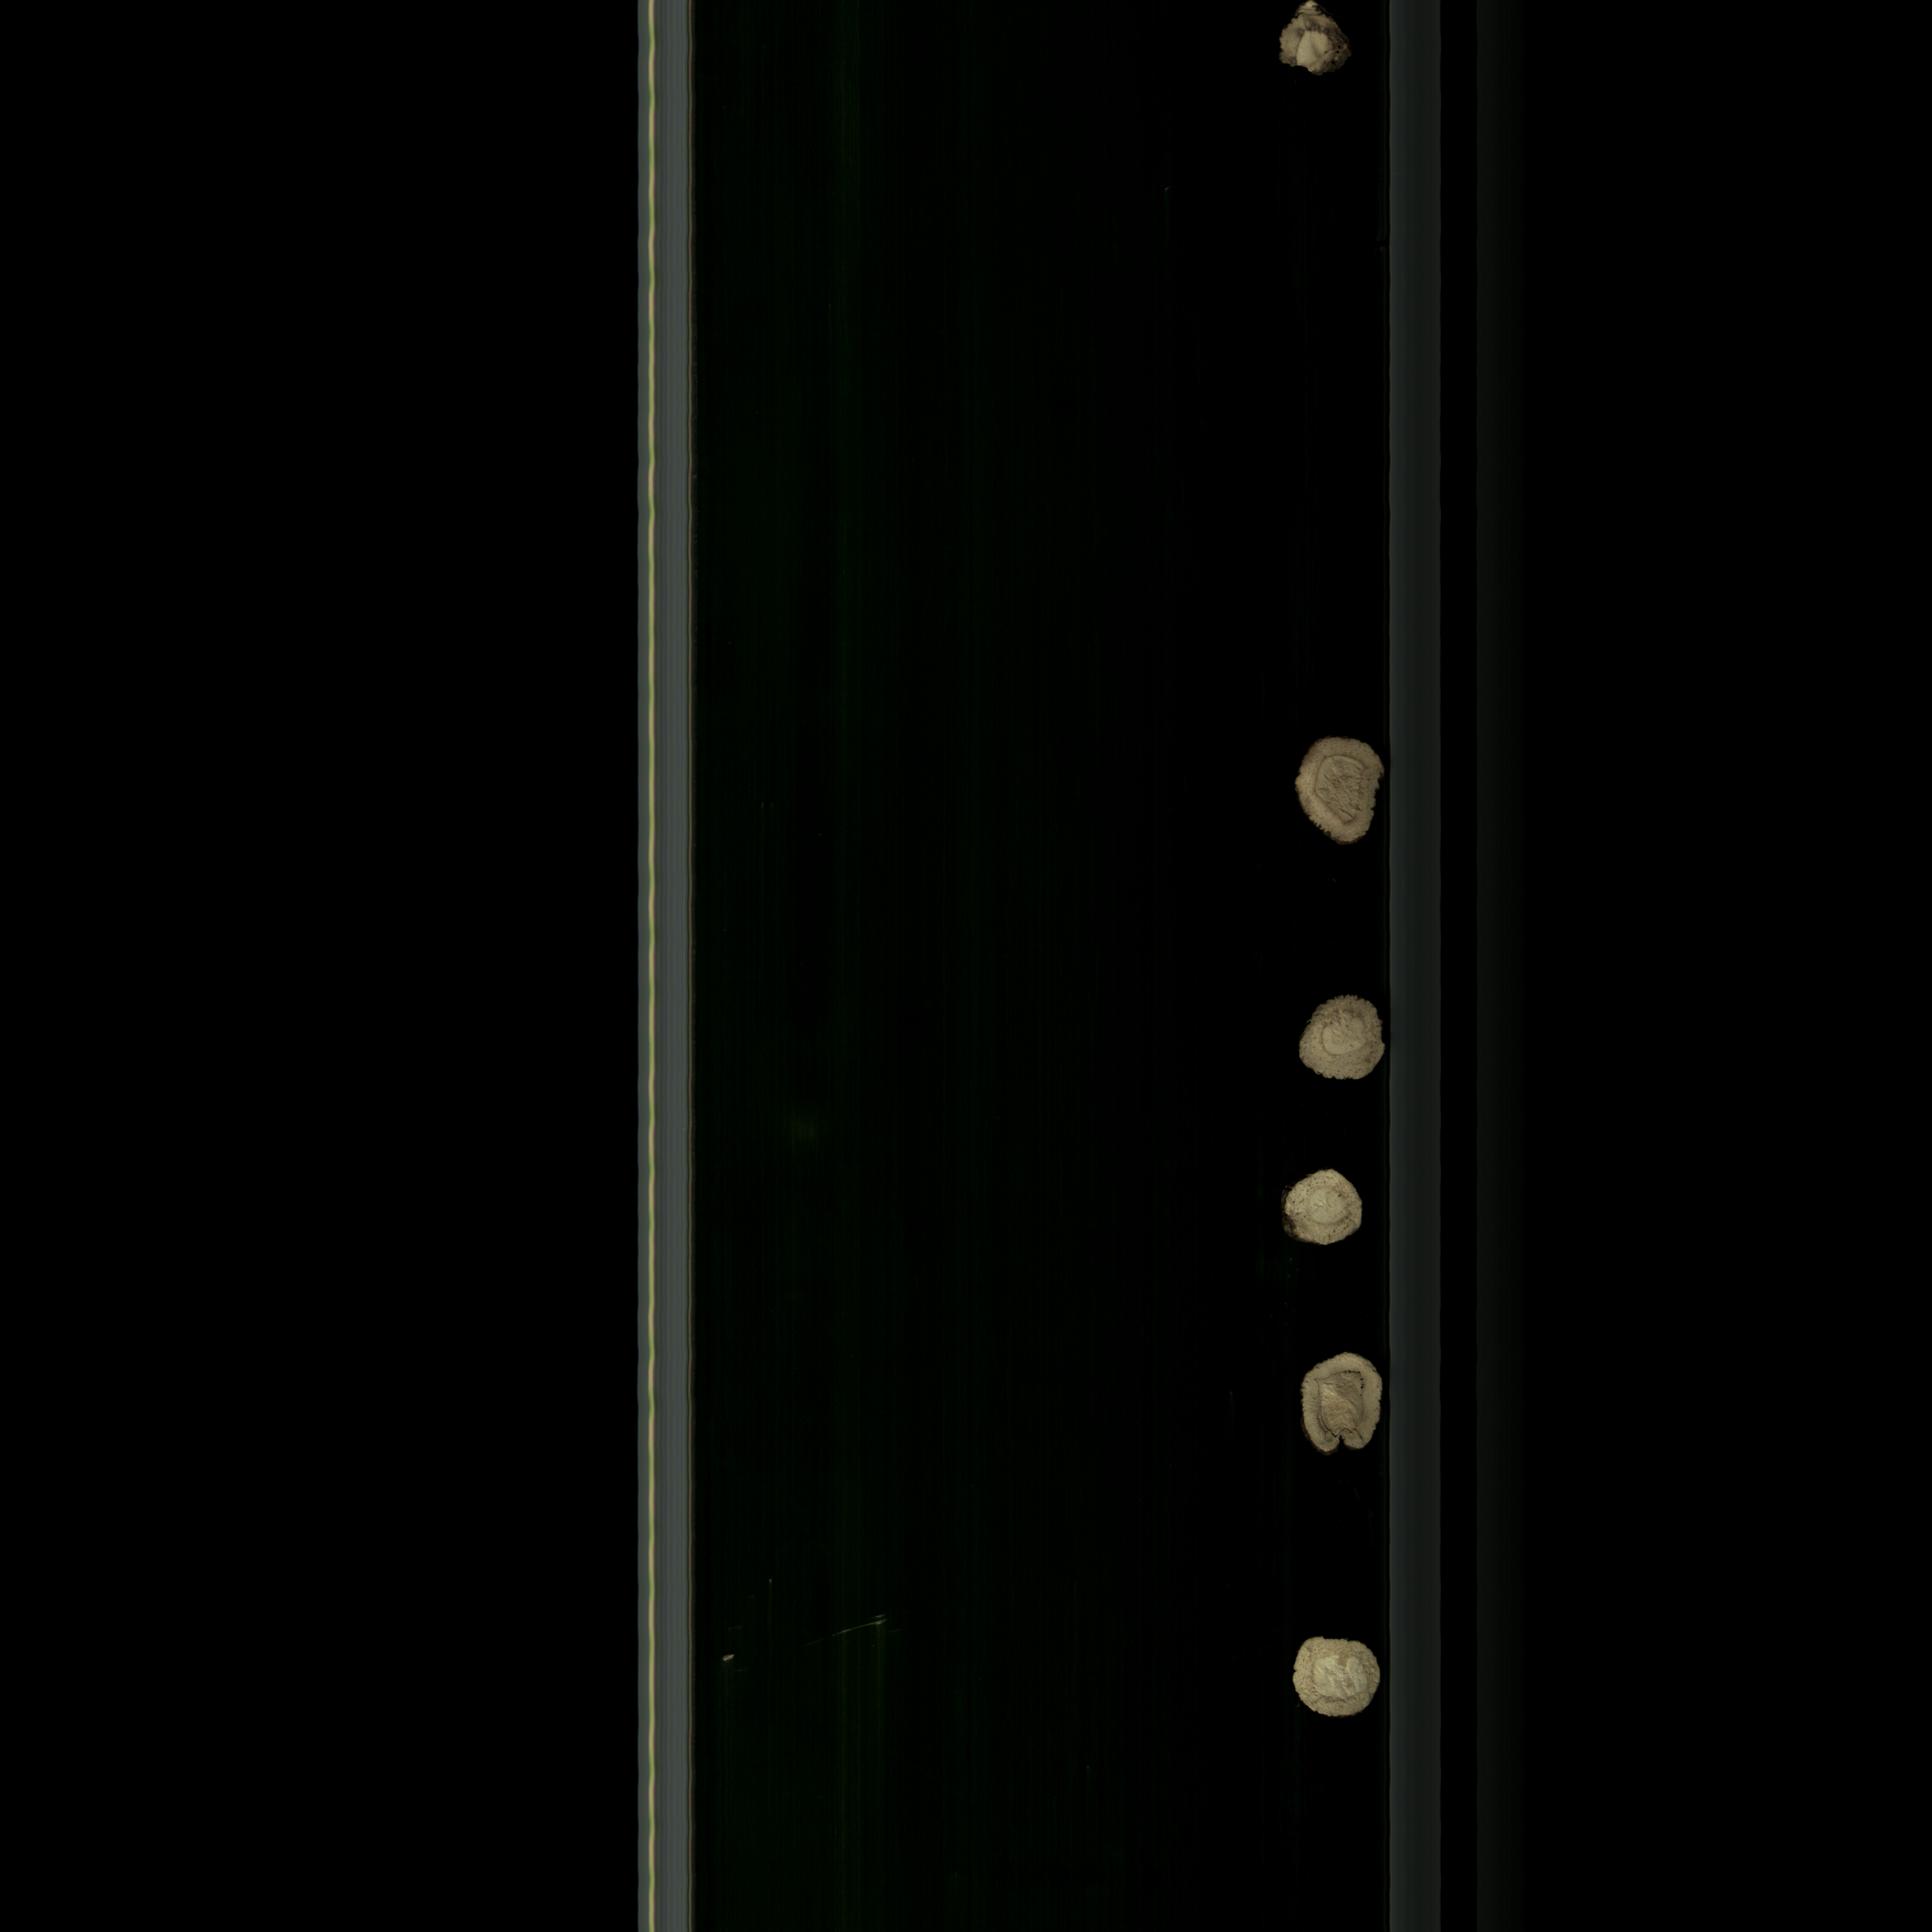moldy: (1290, 732, 1385, 855), (1295, 1343, 1387, 1460), (1283, 1624, 1382, 1725), (1277, 1164, 1369, 1261), (1292, 998, 1385, 1090), (1269, 5, 1346, 87)
